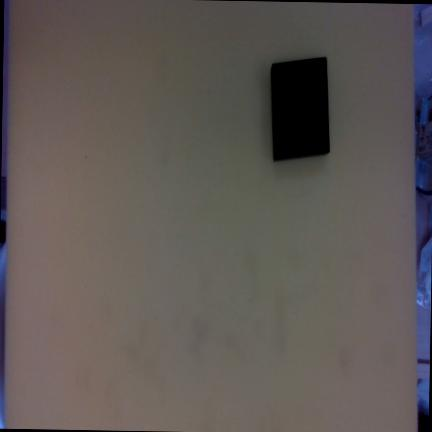tile: (271, 56, 330, 160)
